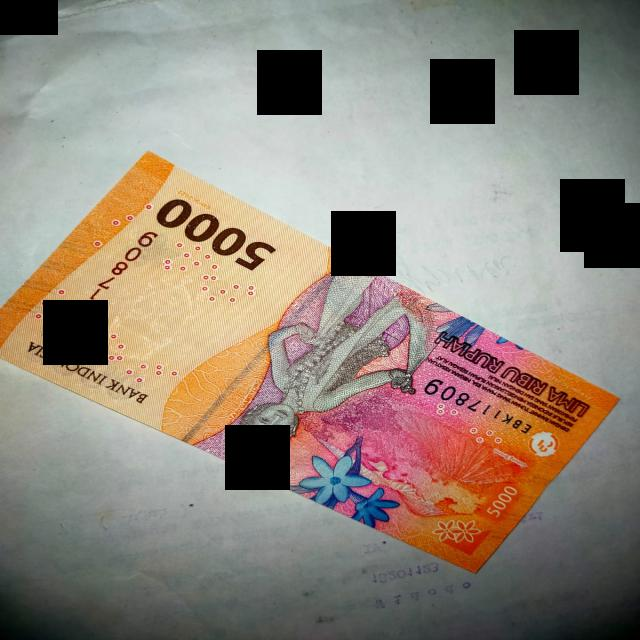lima ribu rupiah: (2, 152, 618, 572)
